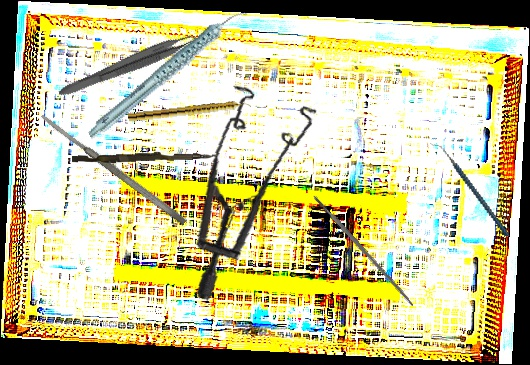Chopper: (430, 128, 510, 251)
Handpiece: (69, 7, 268, 142), (127, 98, 252, 125)
Pusher: (71, 148, 219, 166)
Scalpel Handle: (311, 192, 416, 308)
Spatula Surgical: (39, 111, 188, 227)
Speculum: (170, 74, 339, 302)
Tissue Forceps: (56, 25, 205, 107)
